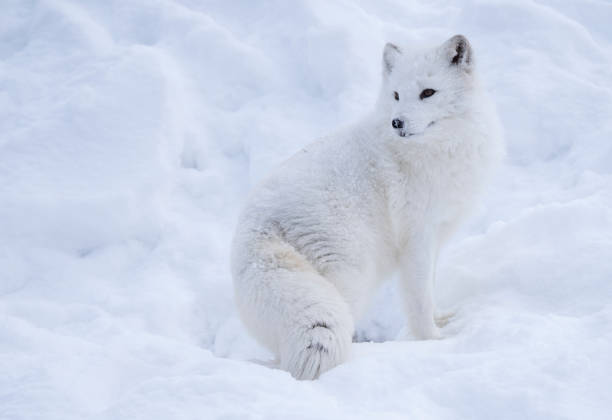arcticfox: (379, 55, 455, 169)
